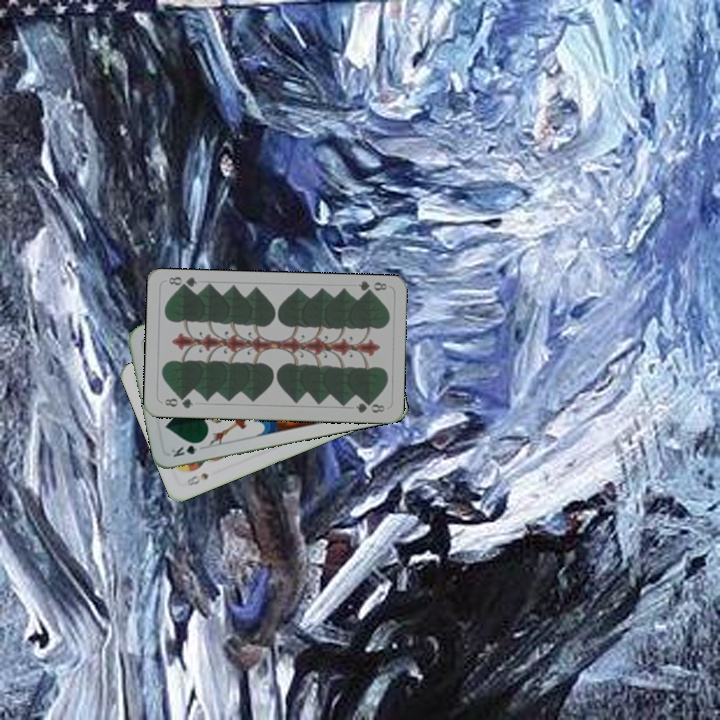G8: (354, 278, 389, 298), (160, 393, 196, 411)
GK: (167, 437, 205, 460)
S8: (182, 469, 212, 489)
